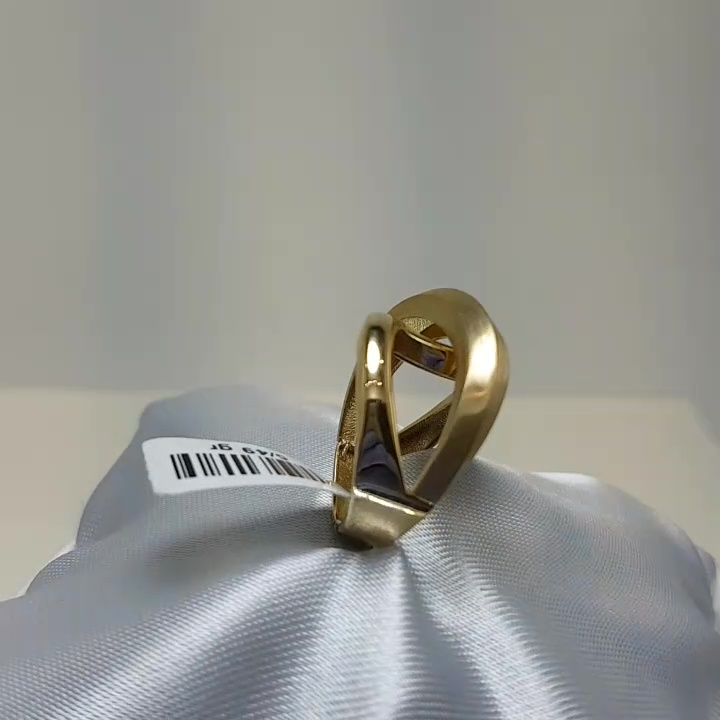Ring 3: (313, 281, 534, 571)
